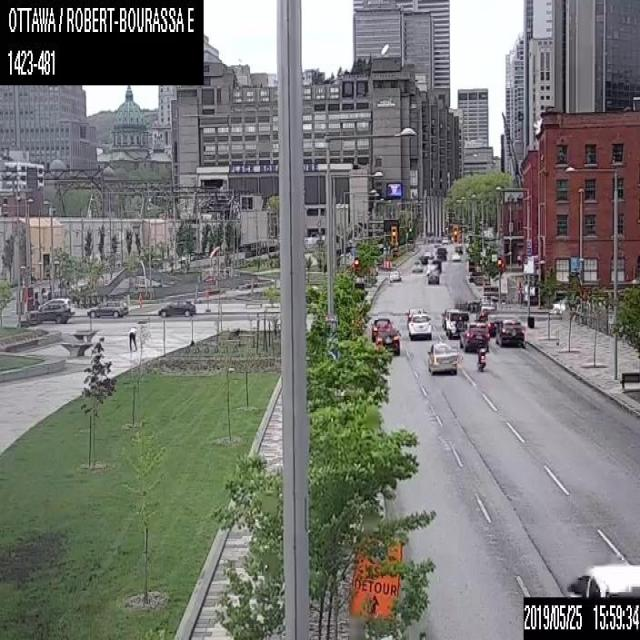construction: (350, 541, 403, 639)
pedestrian: (128, 325, 138, 351)
vehicle: (566, 561, 639, 596), (27, 296, 72, 320), (427, 340, 457, 374), (458, 320, 488, 351), (494, 318, 524, 347), (375, 327, 400, 356), (88, 297, 126, 316), (445, 309, 469, 338), (156, 299, 194, 317), (407, 313, 432, 340), (370, 318, 393, 341), (476, 337, 486, 371), (485, 313, 495, 337), (427, 268, 438, 283), (389, 267, 400, 281), (411, 259, 422, 271)
